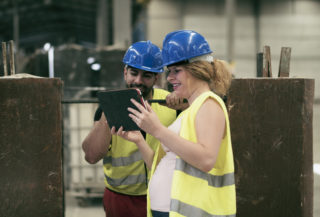Hard Hat: (161, 28, 217, 64), (120, 40, 162, 72)
High Viz: (171, 93, 237, 215), (107, 90, 166, 191)
